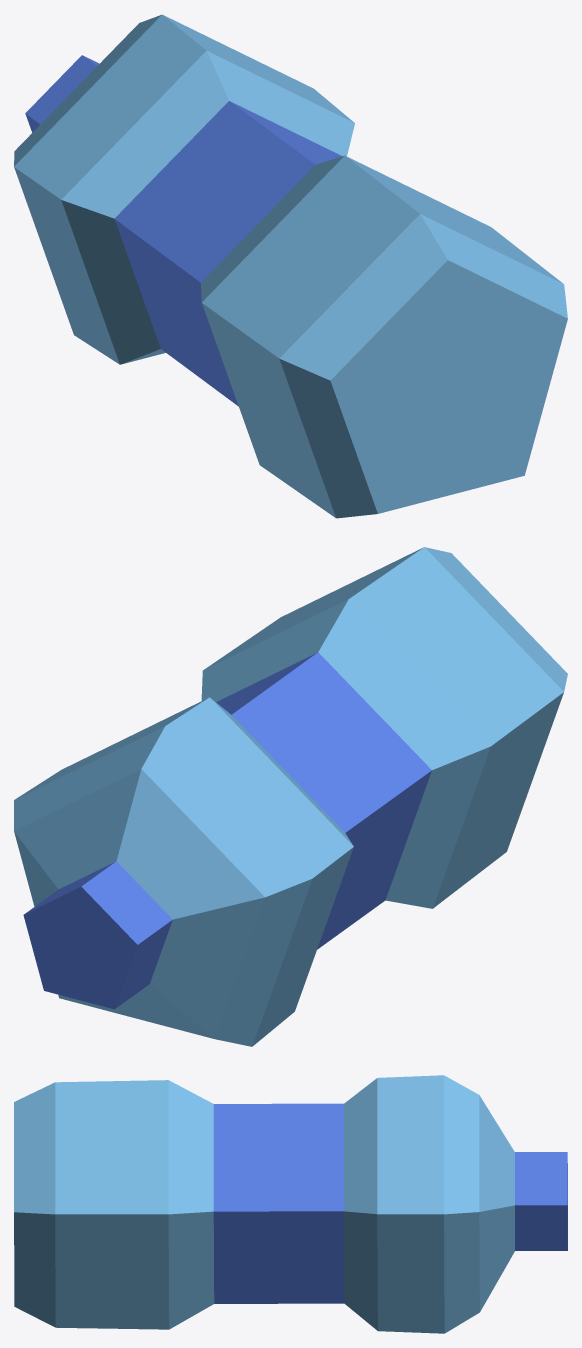
The model's file is Şişe 2.fbx.
3 views of the same model, one above another, from view 1: azimuth 30°, elevation 25°; view 2: azimuth 150°, elevation 25°; view 3: azimuth 270°, elevation 25° (orthographic). The views are drawn at different scales.
Parts seen in each view (by area): view 1: Circle.001; view 2: Circle.001; view 3: Circle.001.
Part boxes in pixels (bbox=[...]): Circle.001: bbox=[14, 14, 567, 518]; Circle.001: bbox=[14, 547, 567, 1046]; Circle.001: bbox=[14, 1075, 567, 1333].
Size of the model in its own units: 55.13 by 52.72 by 118.
